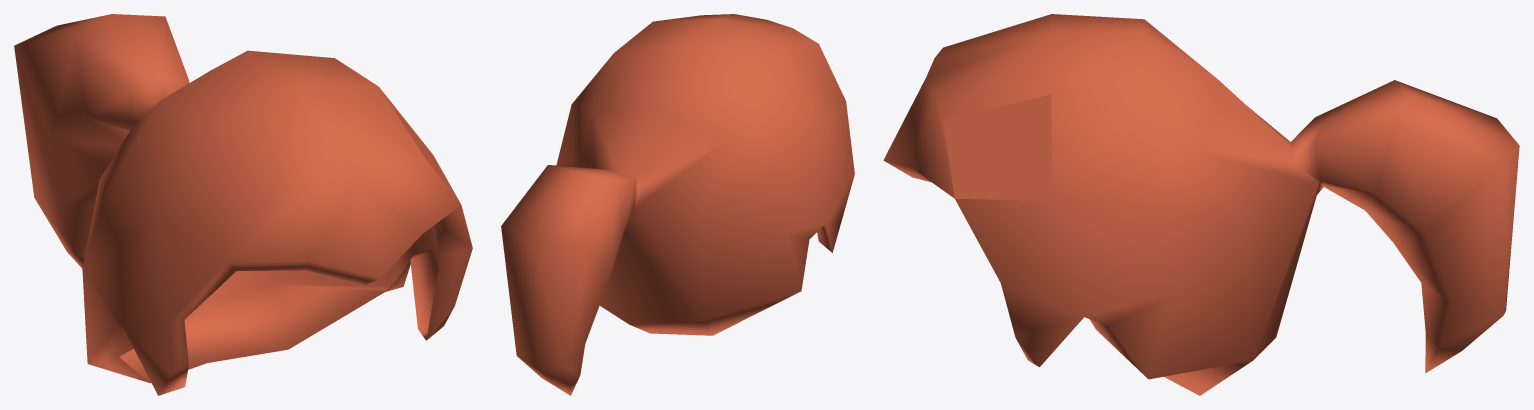
The model's file is HairPonytailGinger.fbx.
3 renders of one model, left to right at view 1: azimuth 30°, elevation 25°; view 2: azimuth 150°, elevation 25°; view 3: azimuth 270°, elevation 25°, orthographic. The views are drawn at different scales.
Parts seen in each view (by area): view 1: HairPonytailGinger; view 2: HairPonytailGinger; view 3: HairPonytailGinger.
Boxes of the visible parts, x1,y1,x2,y2 form: HairPonytailGinger: [14, 14, 472, 395]; HairPonytailGinger: [501, 14, 854, 395]; HairPonytailGinger: [883, 14, 1519, 395].
Bounding box in the file's own units: 50 × 52.63 × 88.87.
